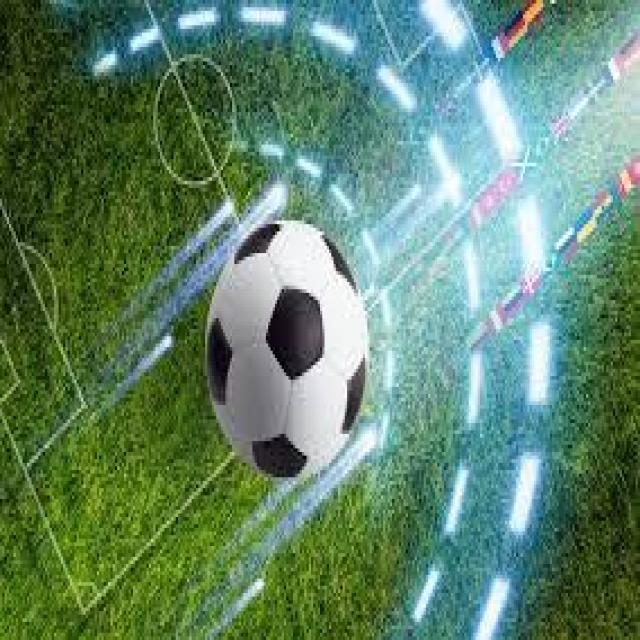Soccer Ball: (210, 220, 370, 481)
